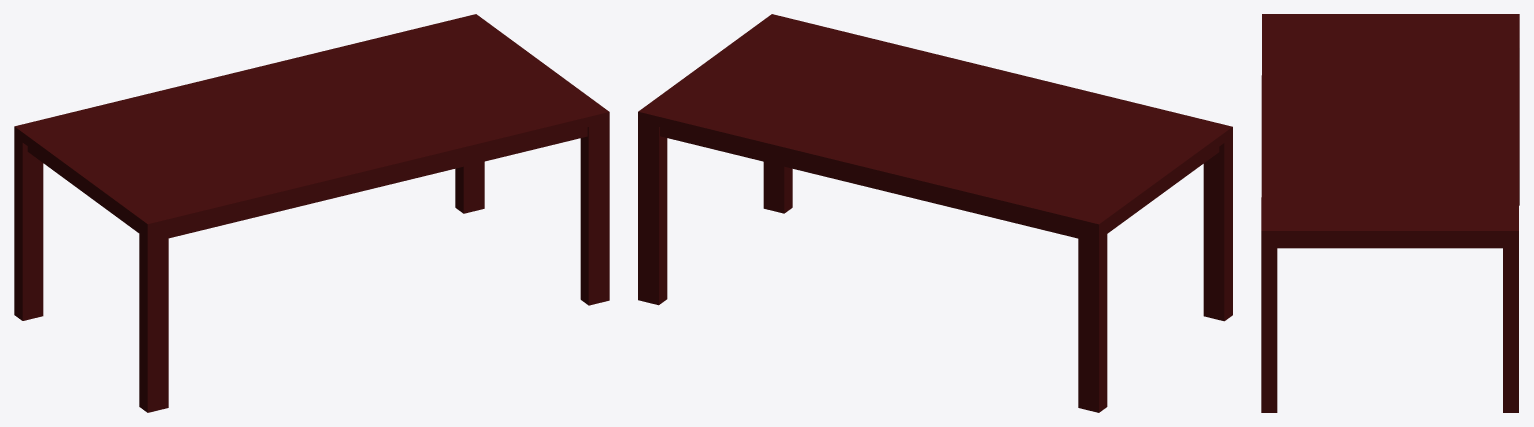
File: DiningTable.FBX
3 renders of one model, left to right at view 1: azimuth 30°, elevation 25°; view 2: azimuth 150°, elevation 25°; view 3: azimuth 270°, elevation 25°, orthographic. The views are drawn at different scales.
Parts seen in each view (by area): view 1: Box01; view 2: Box01; view 3: Box01.
Boxes of the visible parts, x1,y1,x2,y2 form: Box01: (14, 14, 609, 412); Box01: (638, 14, 1232, 412); Box01: (1261, 14, 1519, 412).
Size of the model in its own units: 1894 by 740 by 952.
